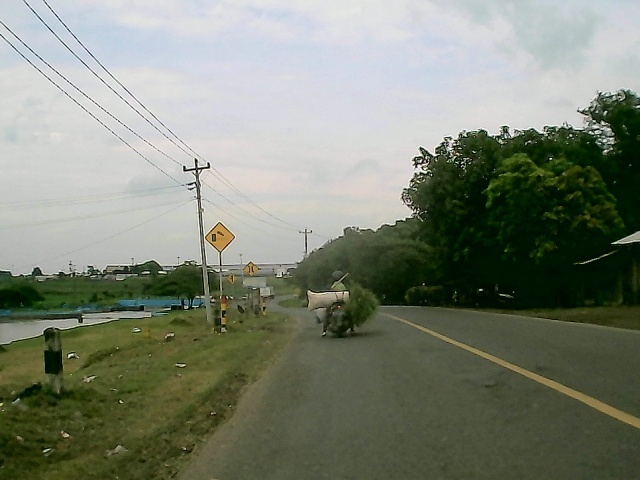Jembatan: (241, 261, 261, 279)
Peringatan tepi air: (202, 221, 237, 254)
